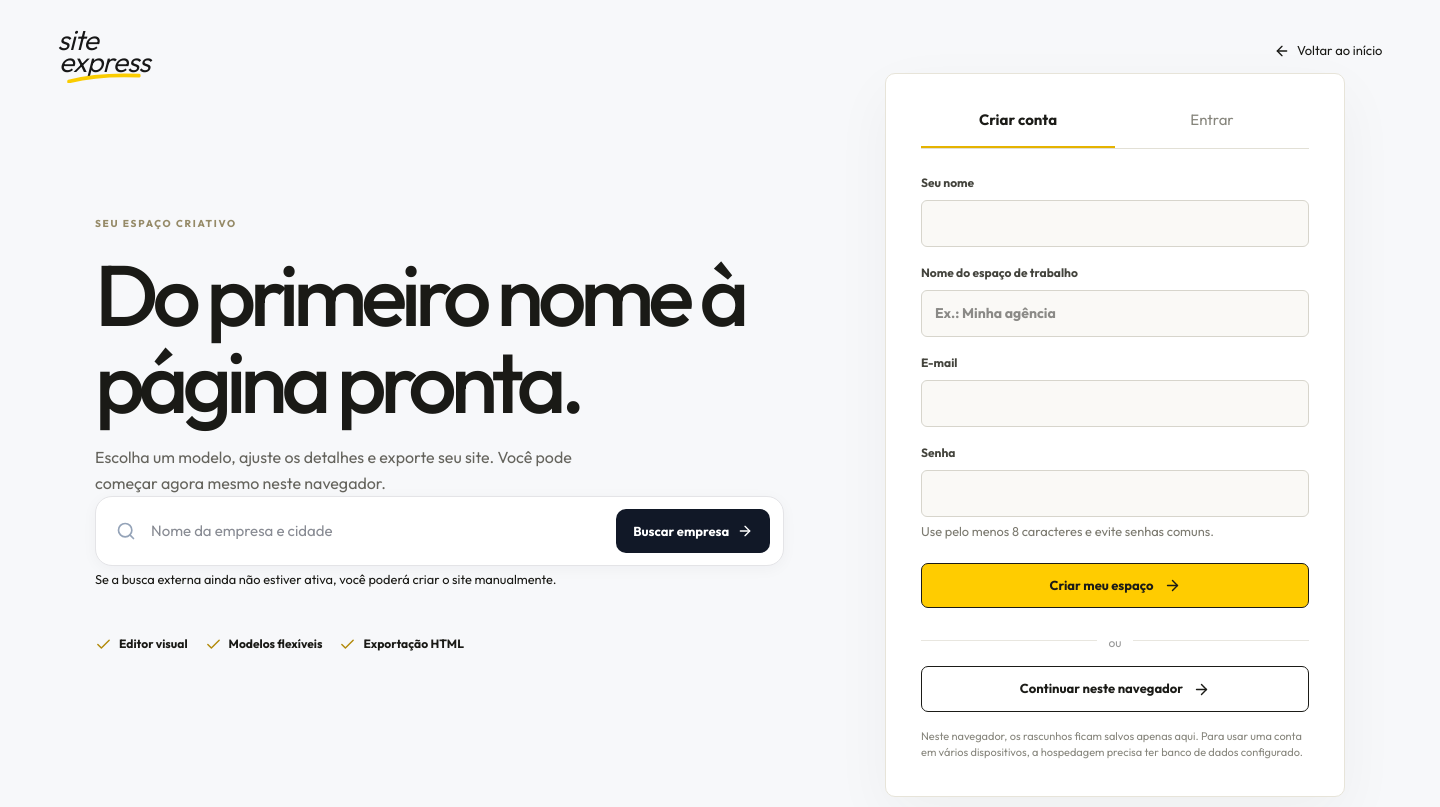
Test: studio workflow › creates and duplicates a local draft without publishing it
The image size is (1440, 807).
Click the button "Continuar neste navegador" at (1115, 689), box [921,666,1309,712]
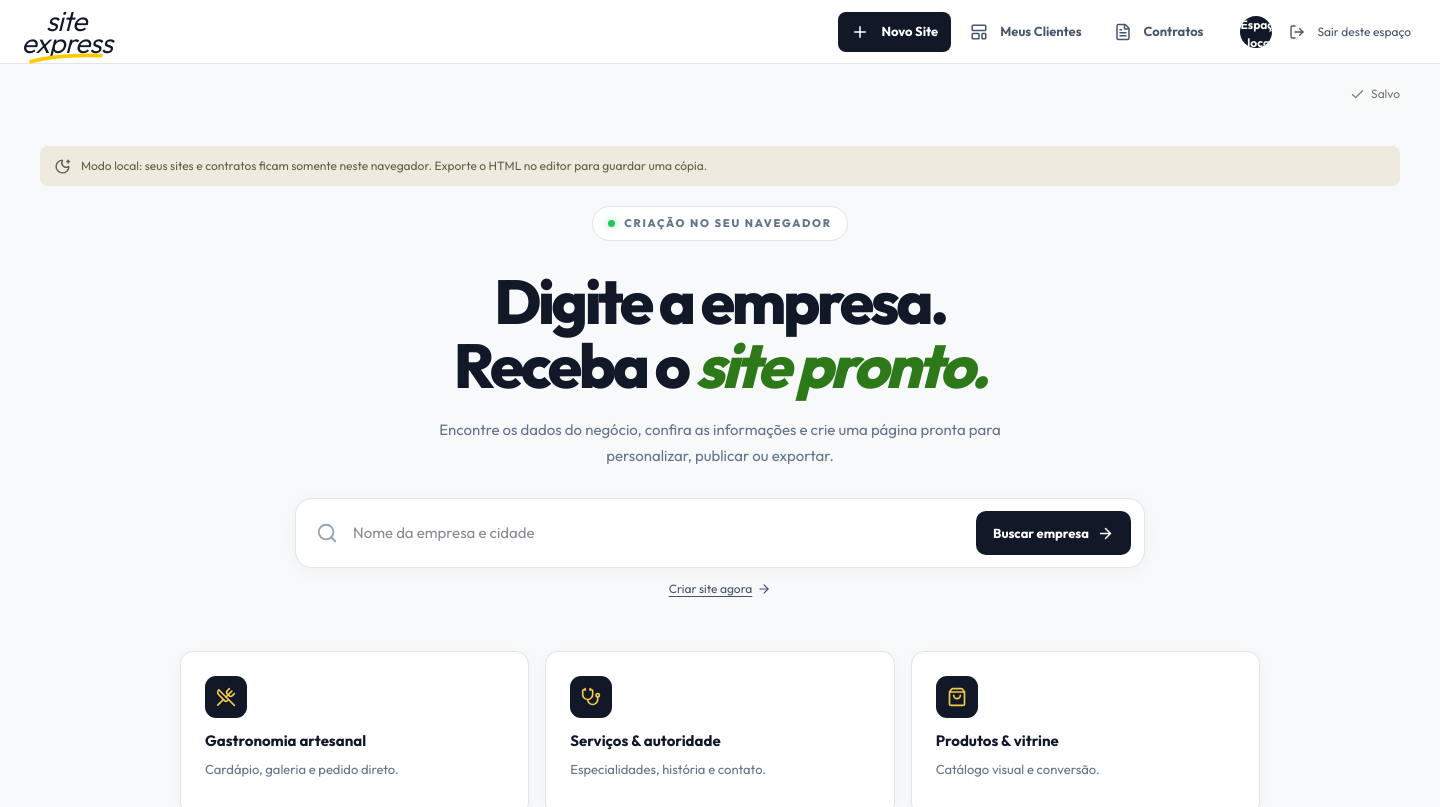
Now the heading "Digite a empresa.Receba o site pronto." is shown, box [454,262,986,404]
Click the button "Criar site agora" at (720, 589), box [669,580,771,598]
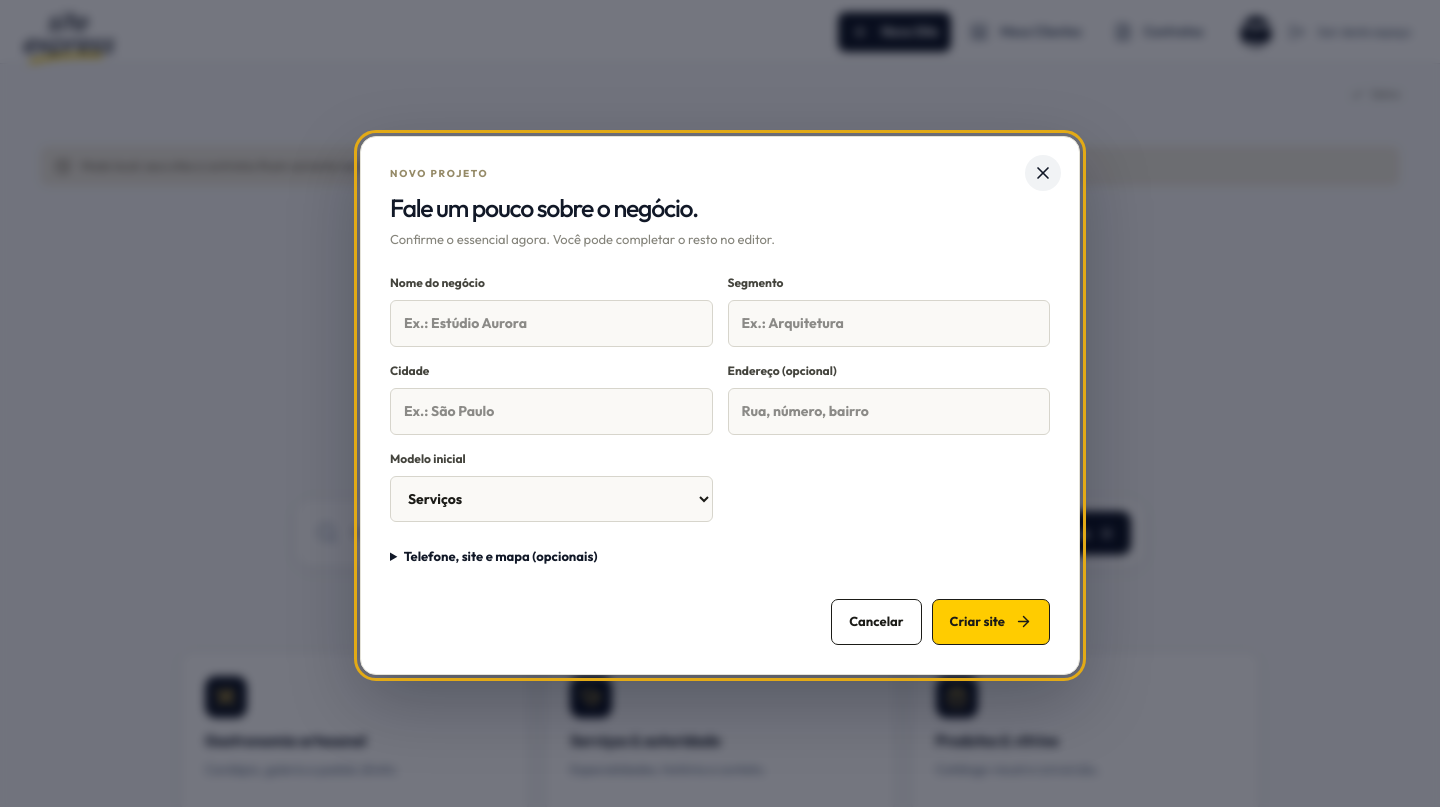
Type "Ateliê Verde" into the field with placeholder "Ex.: Estúdio Aurora" at (551, 323), box [390,300,712,346]
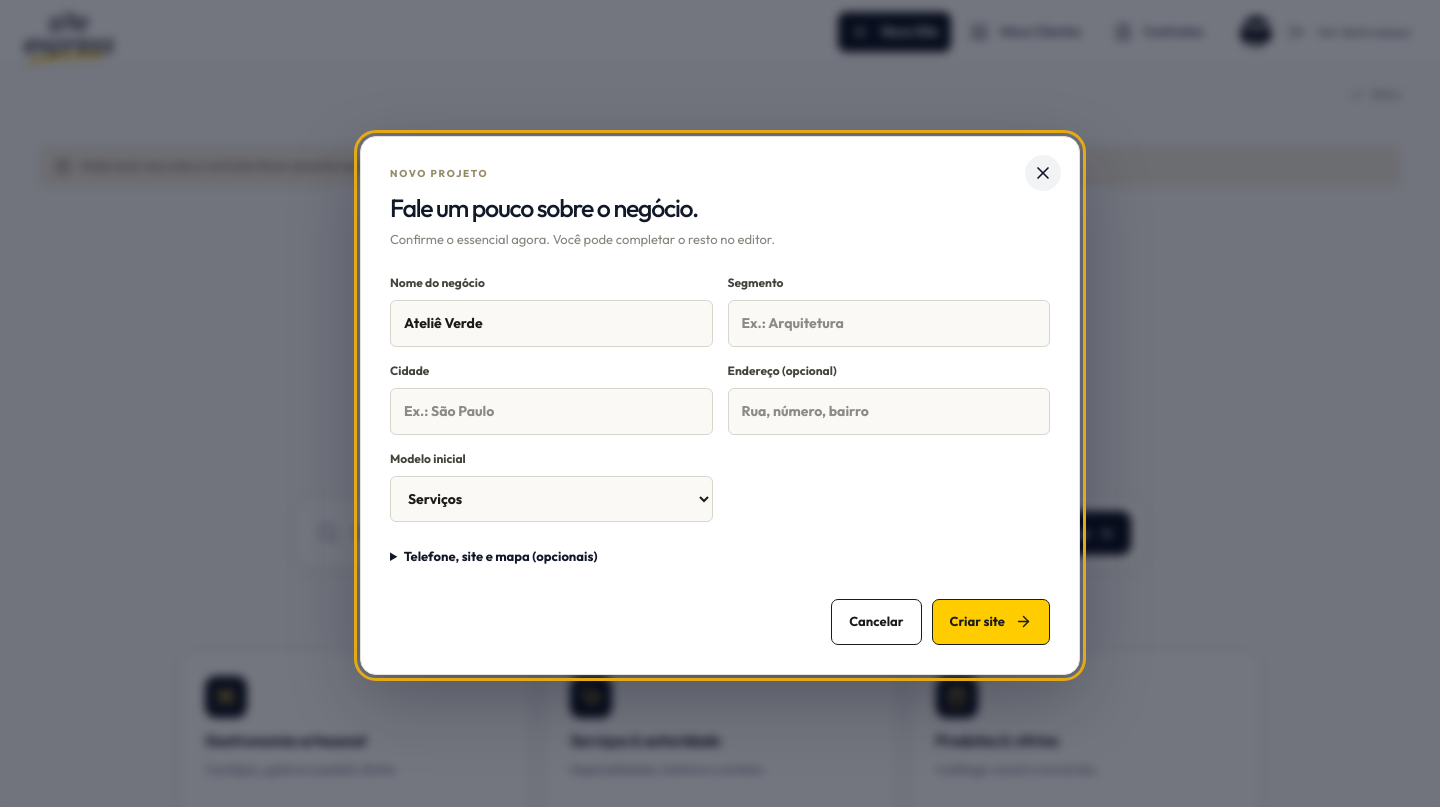
Click the button "Criar site" at (991, 622), box [932,599,1050,644]
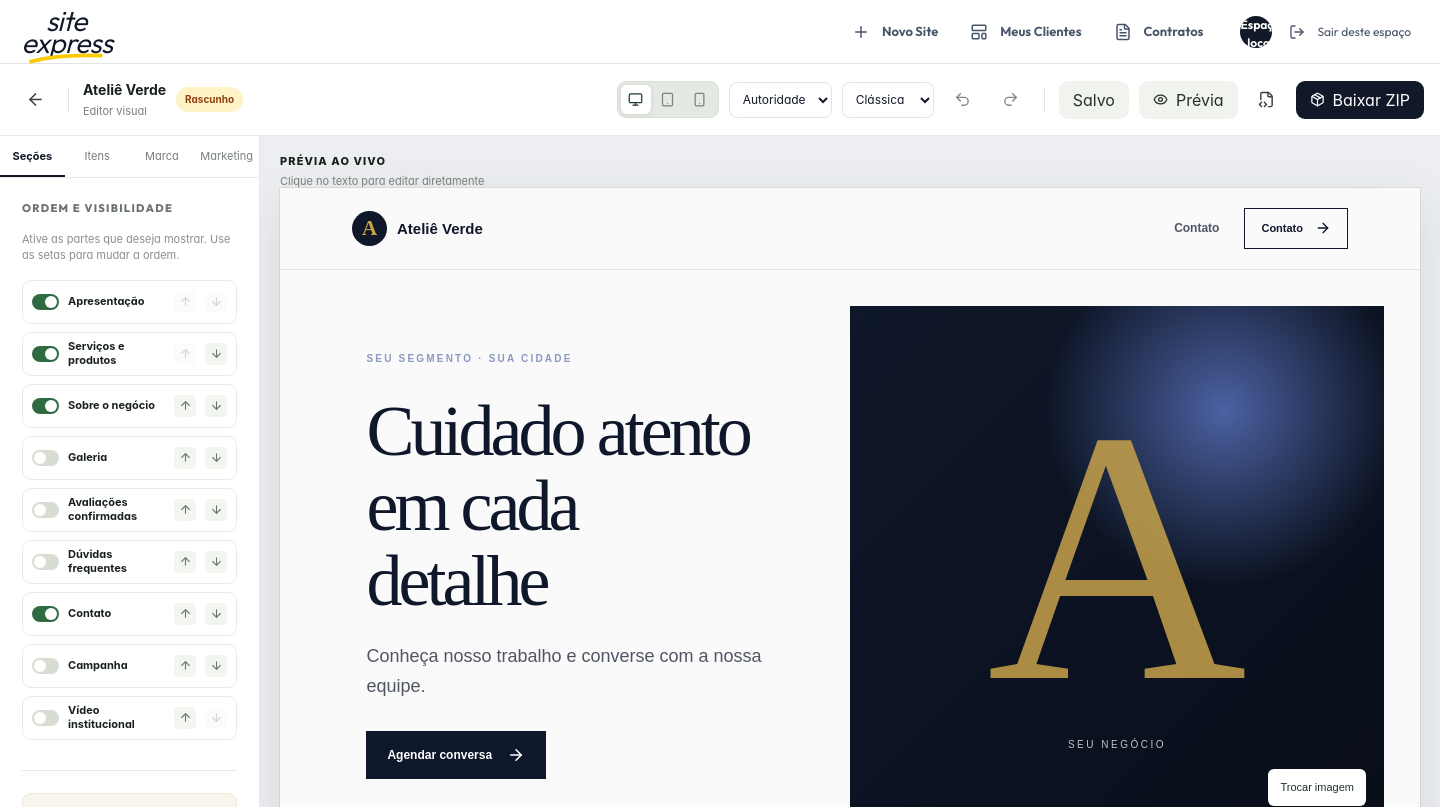
Now the text "Ateliê Verde" is shown, box [83,79,166,100]
Click the button named "voltar aos projetos" at (35, 100), box [16,80,54,118]
(page scrolled)
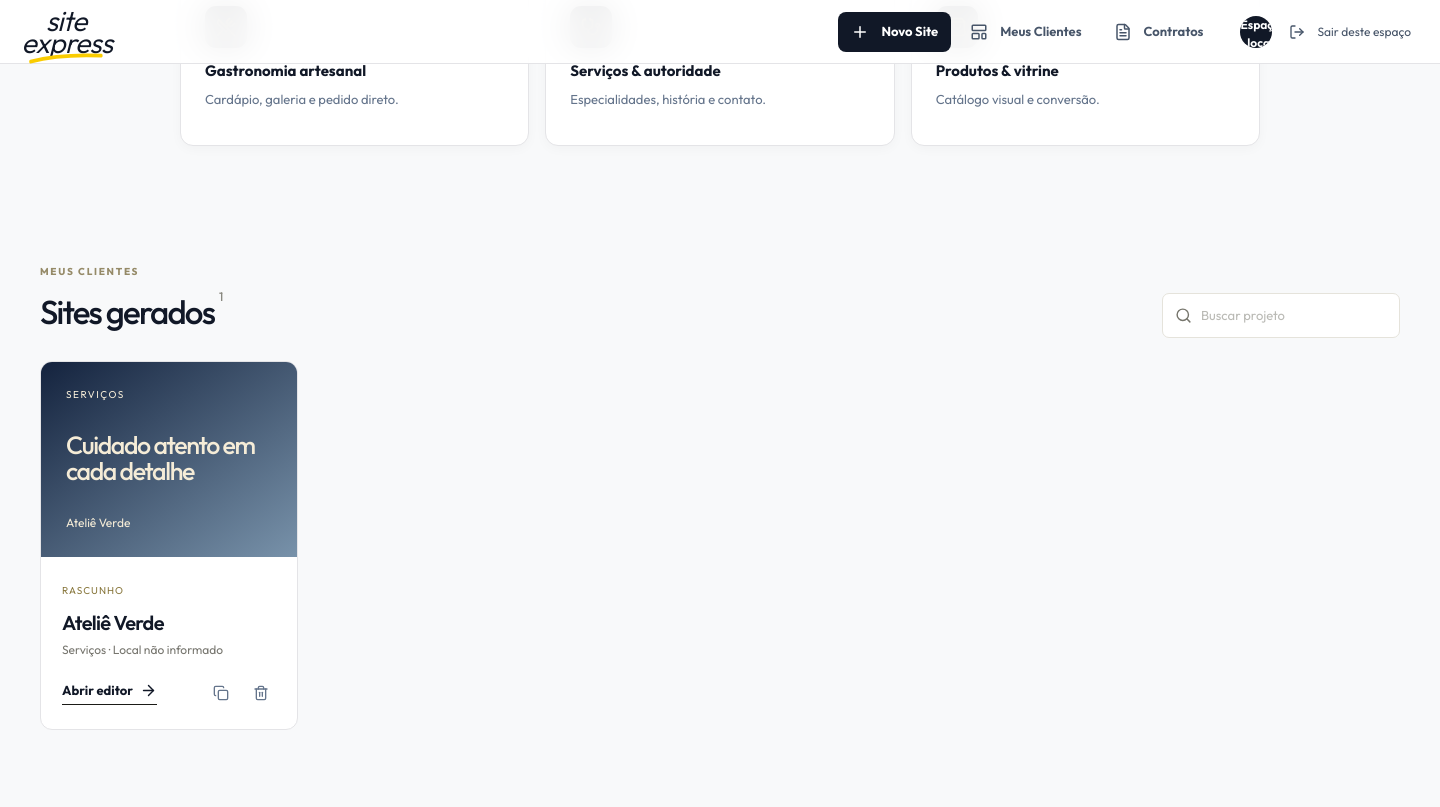
Click the button named "duplicar ateliê verde" at (221, 693), box [206,678,236,708]
(page scrolled)
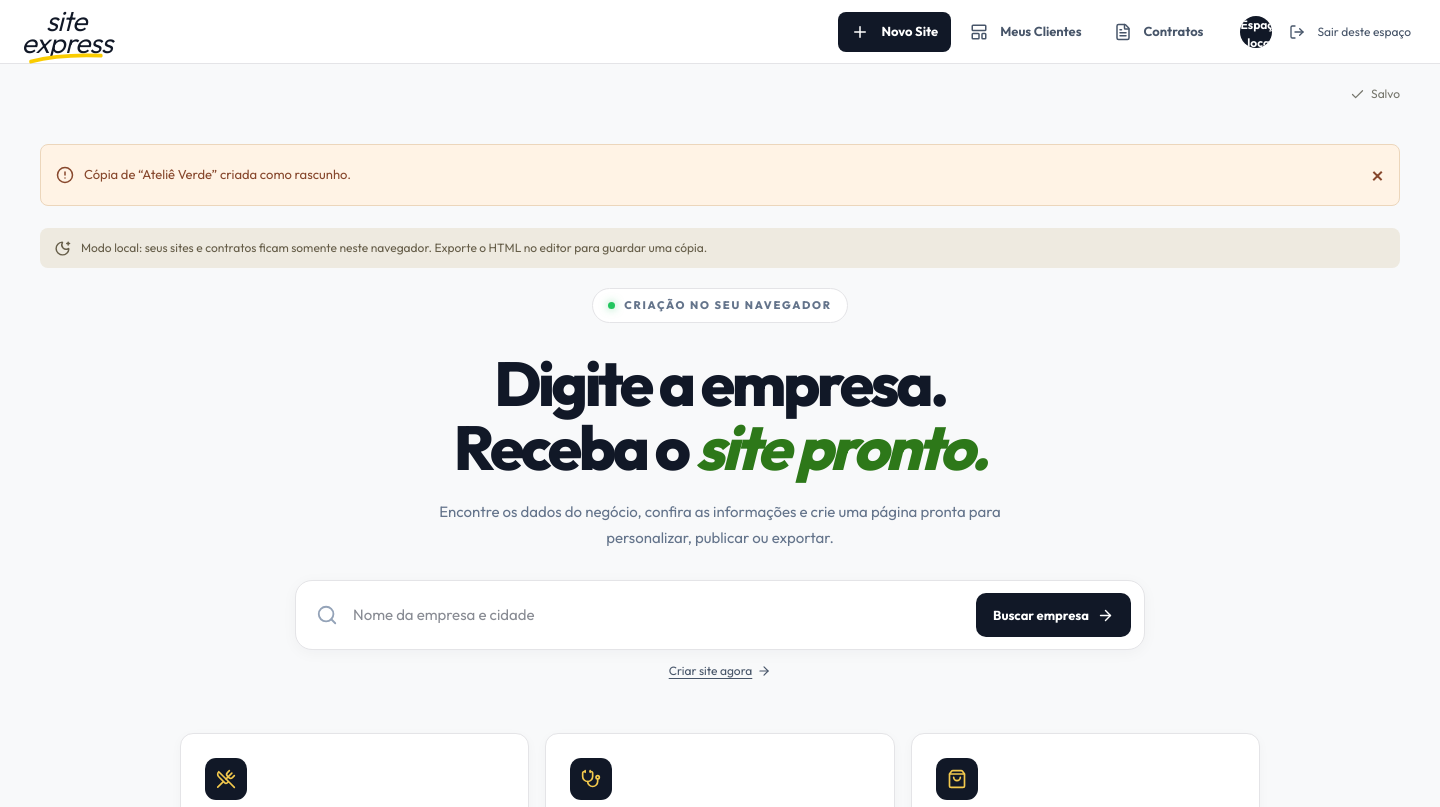
Now the text "Cópia de “Ateliê Verde” criada como rascunho." is shown, box [84,166,351,182]
